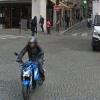Motorcycle: (5, 40, 49, 100)
